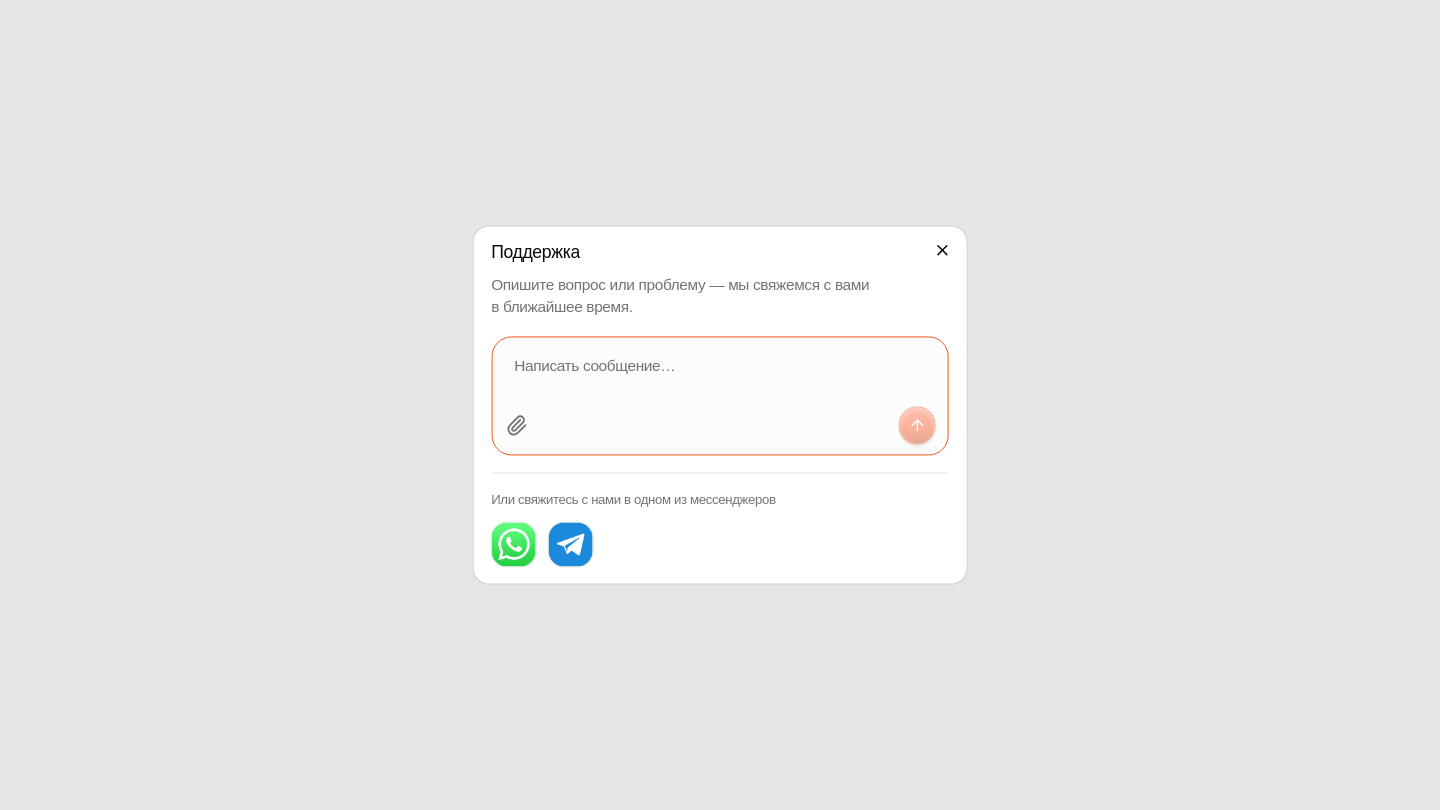
it: SupportDialog › send button enables when user types a non-empty message
Type "Проблема с почтой" into the text box at coordinates (720, 373), box [492,337,948,408]
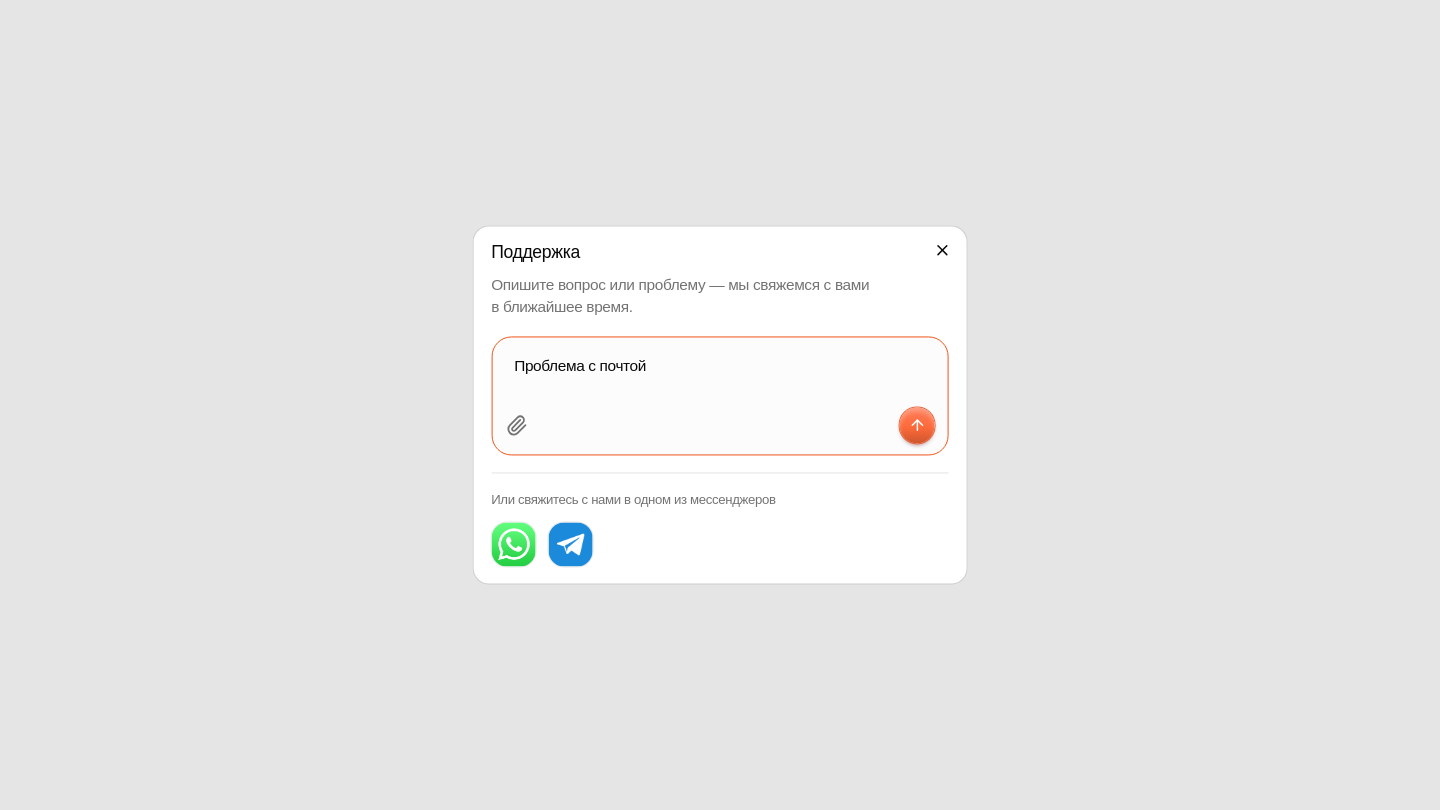
Expected: the button named "Отправить" is enabled, [899,408,935,443]
